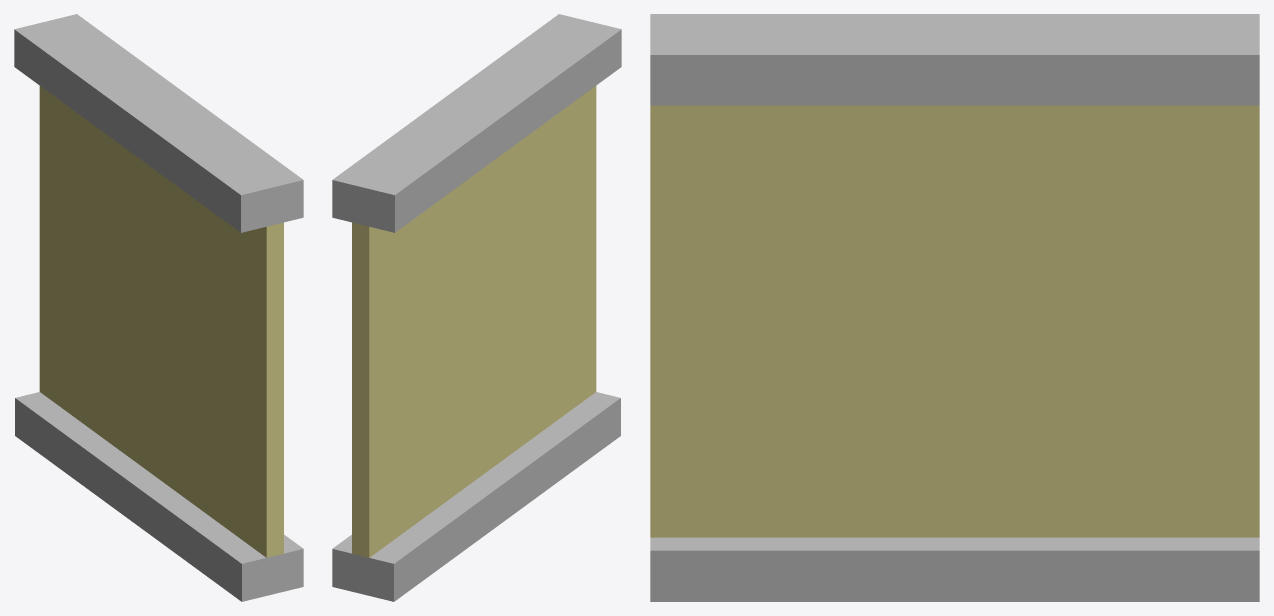
Rendered from Child_Wall_Museum.fbx.
3 views of the same model, side by side, from view 1: azimuth 30°, elevation 25°; view 2: azimuth 150°, elevation 25°; view 3: azimuth 270°, elevation 25° (orthographic). The views are drawn at different scales.
Parts seen in each view (by area): view 1: pCube1; view 2: pCube1; view 3: pCube1.
Part boxes in pixels (x1=…): pCube1: x1=14, y1=14, x2=303, y2=601; pCube1: x1=332, y1=14, x2=621, y2=601; pCube1: x1=650, y1=14, x2=1259, y2=601.
Size of the model in its own units: 94.57 by 587 by 593.
